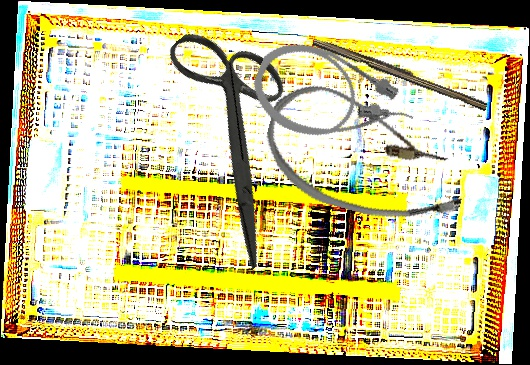Cannula: (253, 75, 481, 238), (242, 29, 425, 171)
Iris Scissors: (104, 4, 366, 271)
Scalpel Handle: (311, 34, 490, 112)
